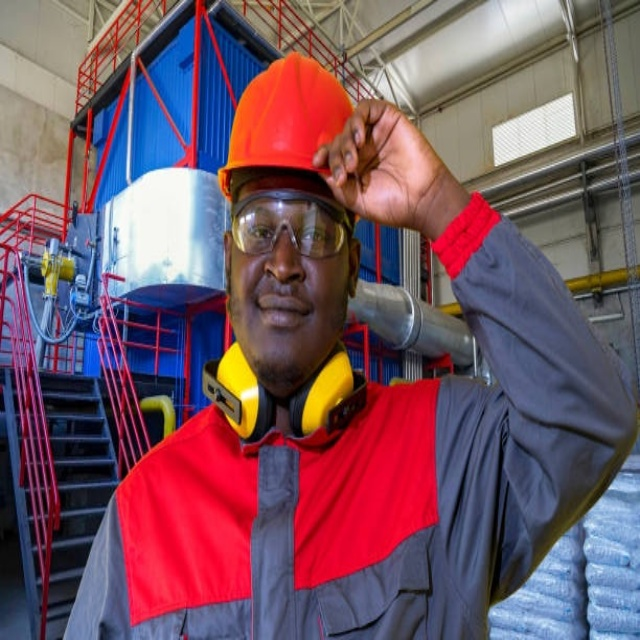Gafas: (228, 191, 352, 264)
Sin_guantes: (312, 95, 455, 238)
Sin_mascara: (250, 282, 317, 334)
